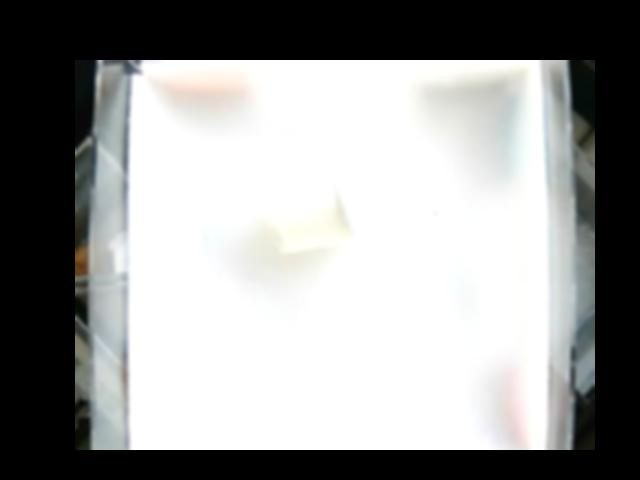Cup: (261, 156, 363, 254)
